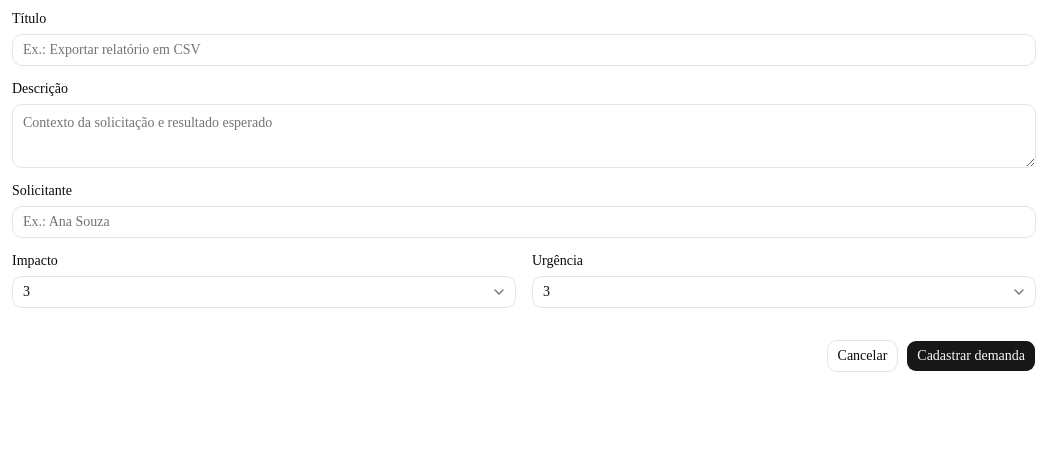
Test: DemandForm › exibe as mensagens de validação e não envia quando o formulário está vazio
This screenshot has width=1048, height=473.
Click the button "Cadastrar demanda": coordinates (971, 356) [906,340,1036,372]
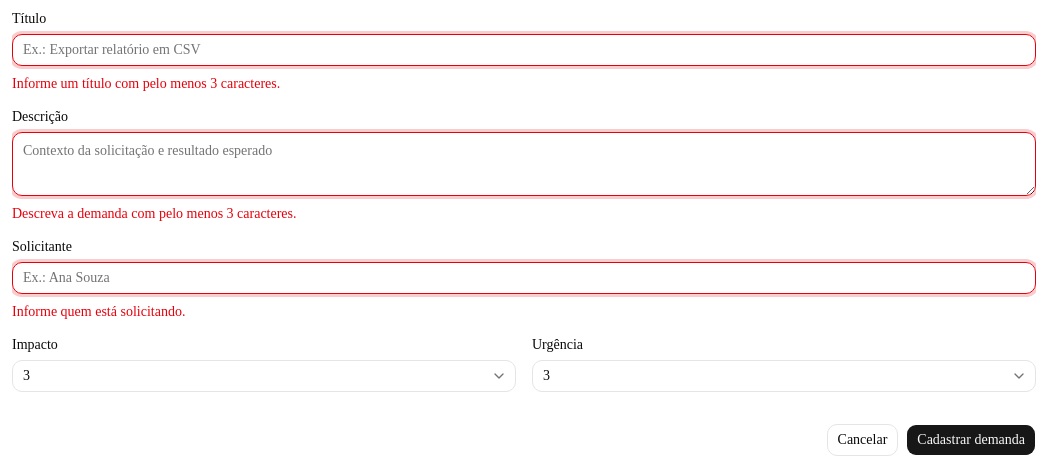
Now the text "Informe um título com pelo menos 3 caracteres." is shown, box [12,76,280,91]
Now the text "Descreva a demanda com pelo menos 3 caracteres." is shown, box [12,206,296,221]
Now the text "Informe quem está solicitando." is shown, box [12,304,185,319]
